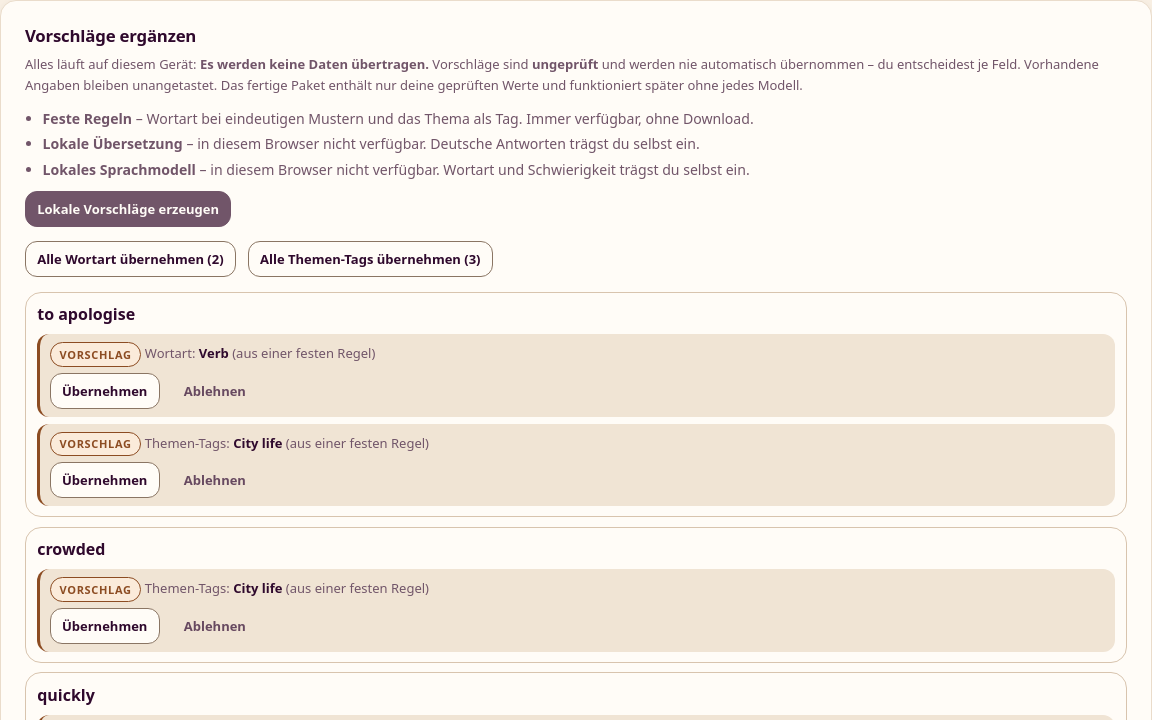
Test: Sammelaktionen › lässt abgelehnte Vorschläge aus
expect the text "Verb" is shown: met, box [199, 345, 229, 363]
Click the button with aria-label "Wortart für to apologise ablehnen".
click(215, 391)  # box [172, 373, 258, 409]
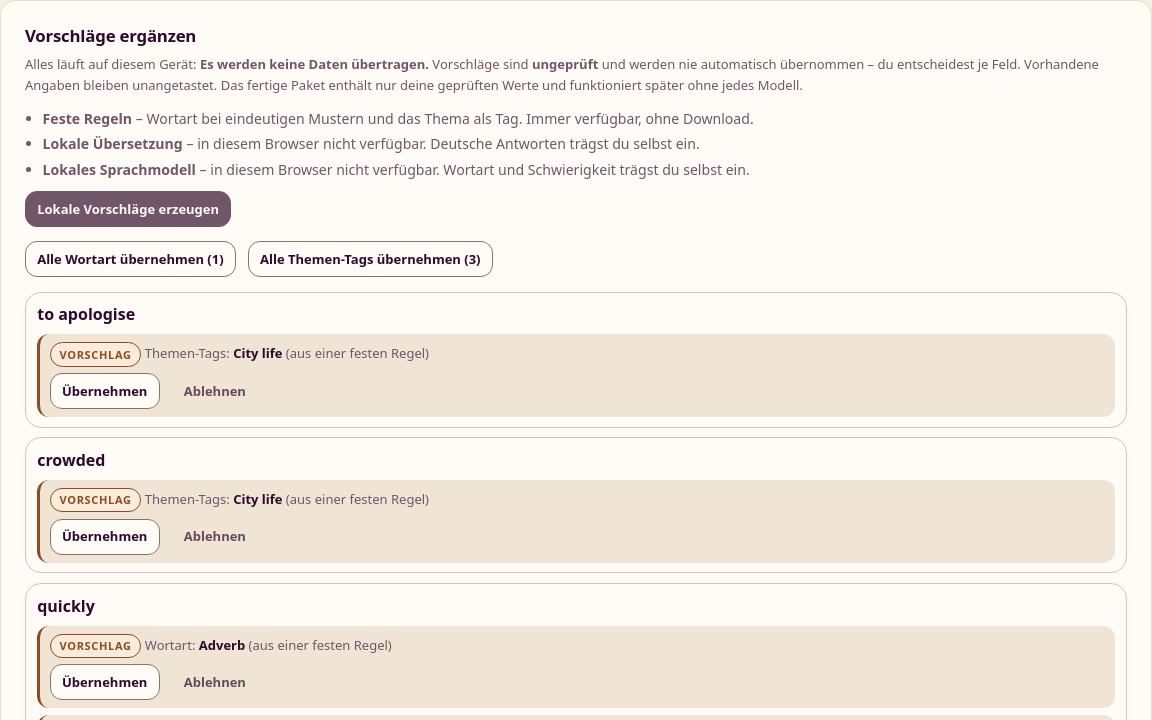
Click the button "Alle Wortart übernehmen (1)".
click(130, 260)  # box [25, 242, 236, 278]
(page scrolled)
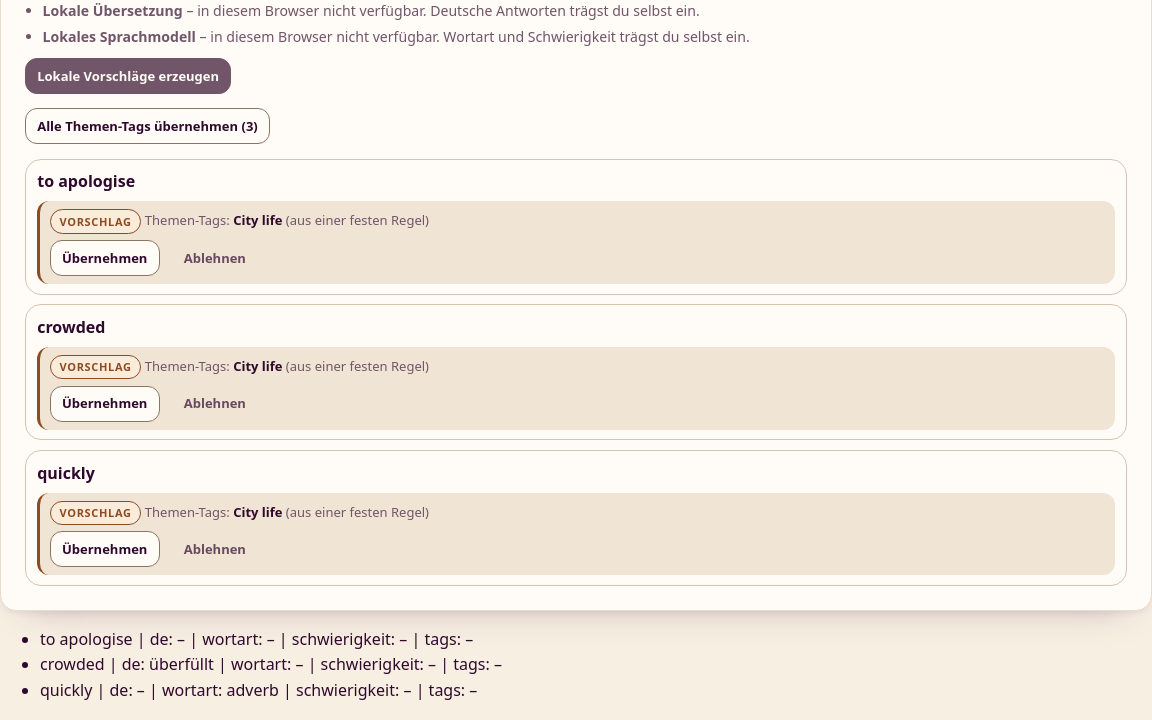
expect the 6th list item shows "wortart: –": met, box [40, 628, 473, 650]
expect the 8th list item shows "wortart: adverb": met, box [40, 679, 477, 701]
